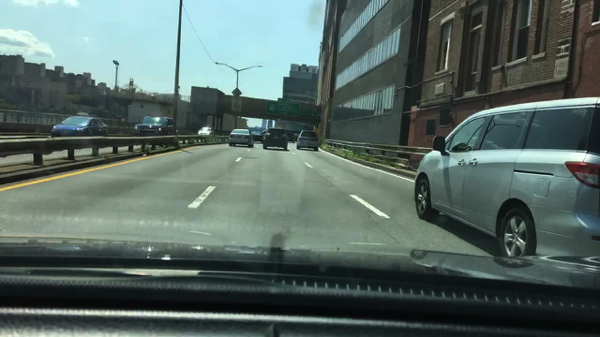car: (412, 96, 599, 263), (50, 114, 109, 138), (132, 115, 178, 137), (261, 129, 288, 152), (228, 128, 255, 149), (294, 131, 319, 153), (197, 126, 218, 136), (251, 131, 263, 143), (286, 131, 294, 143)
traffic sign: (265, 101, 301, 118), (231, 95, 242, 114), (301, 109, 321, 118), (232, 88, 242, 96)
